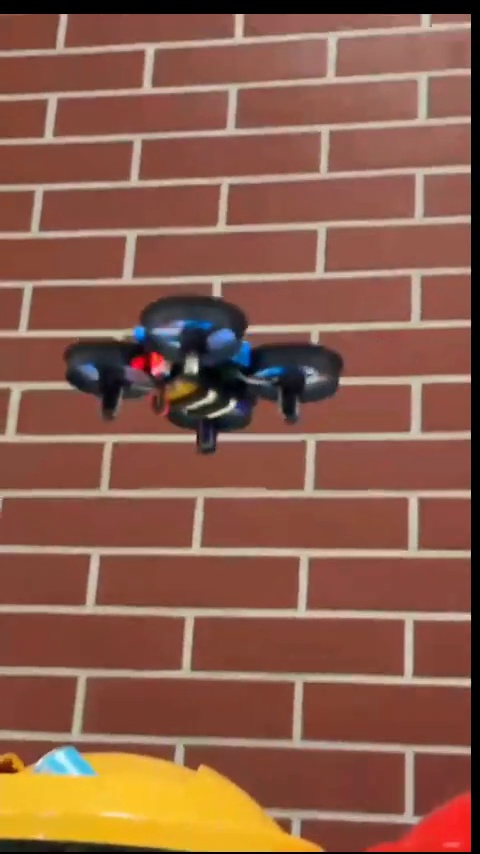drone: (68, 296, 354, 458)
